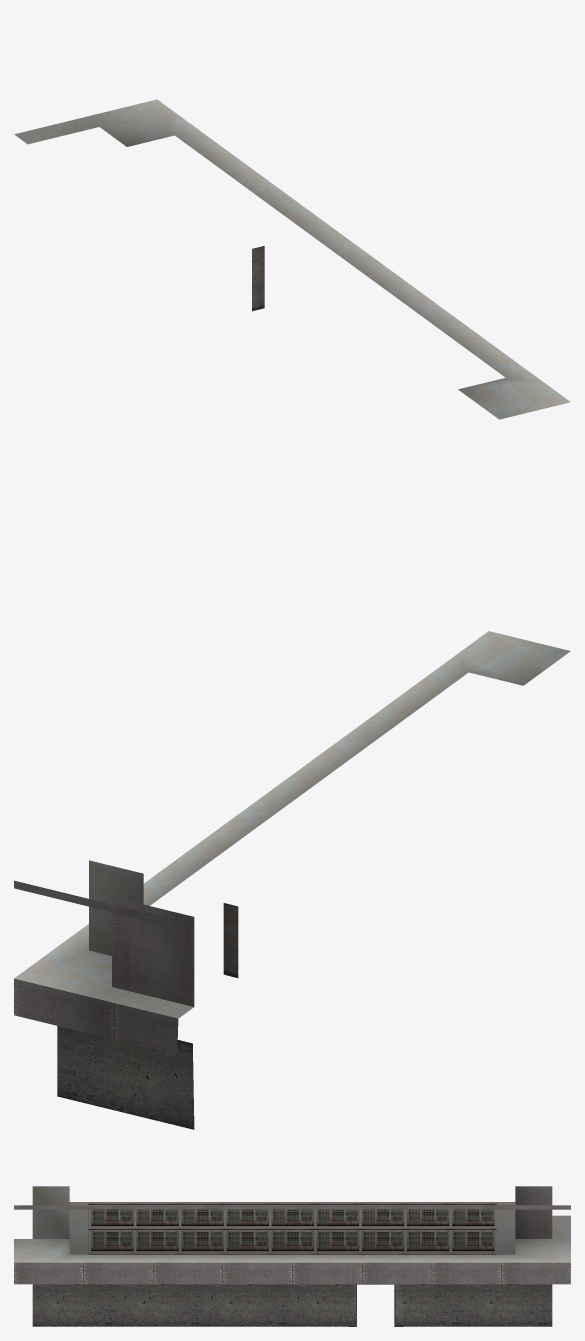
Rendered from M10_Z01_19_TowerC.glb.
3 renders of one model, top to bottom at view 1: azimuth 30°, elevation 25°; view 2: azimuth 150°, elevation 25°; view 3: azimuth 270°, elevation 25°, orthographic. The views are drawn at different scales.
Visible parts, largest first — view 1: M10_Z01_19_TOWERC; view 2: M10_Z01_19_TOWERC; view 3: M10_Z01_19_TOWERC.
Part boxes in pixels (left/top/right/bottom): M10_Z01_19_TOWERC: left=14, top=99, right=570, bottom=419; M10_Z01_19_TOWERC: left=14, top=631, right=570, bottom=1129; M10_Z01_19_TOWERC: left=14, top=1186, right=570, bottom=1326.
Bounding box in the file's own units: 6 × 7.69 × 29.98.
5 materials, 5 textured.
